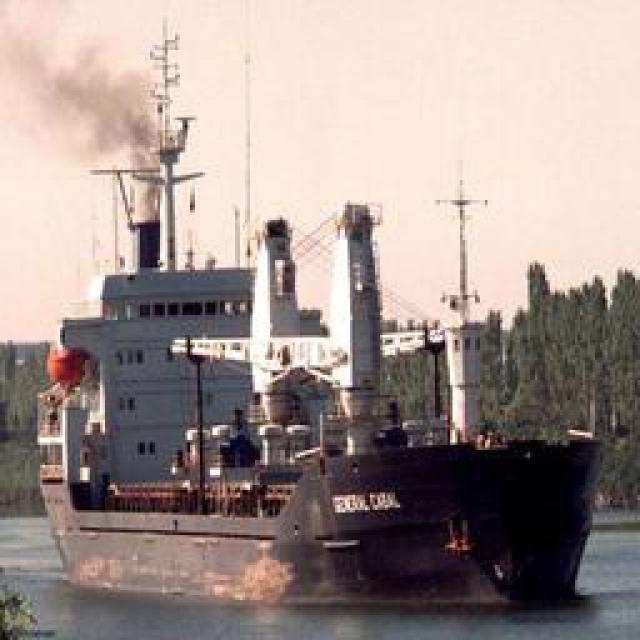Ship: (52, 132, 602, 620)
